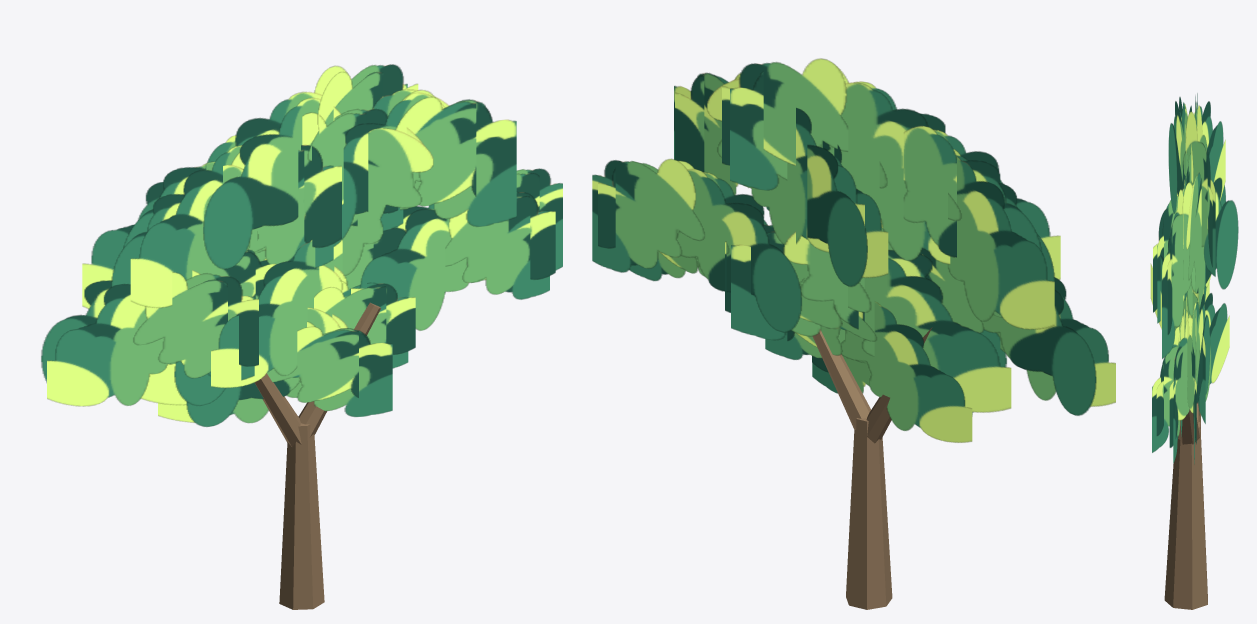
File: TREE_NATIVE_ROUNDED_001_LOD_GAMEPLAY.glb
3 views of the same model, side by side, from view 1: azimuth 30°, elevation 25°; view 2: azimuth 150°, elevation 25°; view 3: azimuth 270°, elevation 25° (orthographic). The views are drawn at different scales.
Visible parts, largest first — view 1: GG_TREE_NATIVE_ROUNDED_001_MID_02_01, GG_TREE_NATIVE_ROUNDED_001_MID_00_01, GG_TREE_NATIVE_ROUNDED_001_MID_05_02, GG_TREE_NATIVE_ROUNDED_001_MID_01_02, GG_TREE_NATIVE_ROUNDED_001_MID_04_01, GG_TREE_NATIVE_ROUNDED_001_BRANCH_00, GG_TREE_NATIVE_ROUNDED_001_MID_00_00, GG_TREE_NATIVE_ROUNDED_001_MID_04_00, GG_TREE_NATIVE_ROUNDED_001_MID_03_01, GG_TREE_NATIVE_ROUNDED_001_MID_03_00, GG_TREE_NATIVE_ROUNDED_001_REAR_03_01, GG_TREE_NATIVE_ROUNDED_001_MID_06_00 (+26 smaller); view 2: GG_TREE_NATIVE_ROUNDED_001_REAR_01_00, GG_TREE_NATIVE_ROUNDED_001_REAR_05_00, GG_TREE_NATIVE_ROUNDED_001_REAR_04_02, GG_TREE_NATIVE_ROUNDED_001_REAR_06_01, GG_TREE_NATIVE_ROUNDED_001_REAR_02_01, GG_TREE_NATIVE_ROUNDED_001_REAR_04_01, GG_TREE_NATIVE_ROUNDED_001_REAR_02_02, GG_TREE_NATIVE_ROUNDED_001_REAR_01_02, GG_TREE_NATIVE_ROUNDED_001_BRANCH_00, GG_TREE_NATIVE_ROUNDED_001_REAR_00_01, GG_TREE_NATIVE_ROUNDED_001_REAR_03_00, GG_TREE_NATIVE_ROUNDED_001_REAR_03_02 (+18 smaller); view 3: GG_TREE_NATIVE_ROUNDED_001_BRANCH_00, GG_TREE_NATIVE_ROUNDED_001_REAR_03_01, GG_TREE_NATIVE_ROUNDED_001_REAR_03_00, GG_TREE_NATIVE_ROUNDED_001_MID_02_02, GG_TREE_NATIVE_ROUNDED_001_REAR_03_02, GG_TREE_NATIVE_ROUNDED_001_REAR_04_00, GG_TREE_NATIVE_ROUNDED_001_REAR_06_01, GG_TREE_NATIVE_ROUNDED_001_MID_02_01, GG_TREE_NATIVE_ROUNDED_001_REAR_01_00, GG_TREE_NATIVE_ROUNDED_001_REAR_04_01, GG_TREE_NATIVE_ROUNDED_001_REAR_06_00, GG_TREE_NATIVE_ROUNDED_001_REAR_00_00 (+12 smaller).
Boxes of the visible parts, x1,y1,x2,y2 form: GG_TREE_NATIVE_ROUNDED_001_MID_02_01: (203,98,340,269); GG_TREE_NATIVE_ROUNDED_001_MID_00_01: (47,270,200,406); GG_TREE_NATIVE_ROUNDED_001_MID_05_02: (211,240,333,387); GG_TREE_NATIVE_ROUNDED_001_MID_01_02: (130,145,242,307); GG_TREE_NATIVE_ROUNDED_001_MID_04_01: (351,209,469,330); GG_TREE_NATIVE_ROUNDED_001_BRANCH_00: (279,423,324,609); GG_TREE_NATIVE_ROUNDED_001_MID_00_00: (133,272,254,380); GG_TREE_NATIVE_ROUNDED_001_MID_04_00: (445,196,549,299); GG_TREE_NATIVE_ROUNDED_001_MID_03_01: (395,97,491,206); GG_TREE_NATIVE_ROUNDED_001_MID_03_00: (263,128,433,275); GG_TREE_NATIVE_ROUNDED_001_REAR_03_01: (402,89,516,226); GG_TREE_NATIVE_ROUNDED_001_MID_06_00: (267,326,370,402); GG_TREE_NATIVE_ROUNDED_001_REAR_01_00: (948,155,1054,329); GG_TREE_NATIVE_ROUNDED_001_REAR_05_00: (835,258,1011,412); GG_TREE_NATIVE_ROUNDED_001_REAR_04_02: (592,158,704,272); GG_TREE_NATIVE_ROUNDED_001_REAR_06_01: (841,301,972,442); GG_TREE_NATIVE_ROUNDED_001_REAR_02_01: (827,82,950,264); GG_TREE_NATIVE_ROUNDED_001_REAR_04_01: (676,169,801,332); GG_TREE_NATIVE_ROUNDED_001_REAR_02_02: (722,58,848,165); GG_TREE_NATIVE_ROUNDED_001_REAR_01_02: (903,126,1041,257); GG_TREE_NATIVE_ROUNDED_001_BRANCH_00: (846,418,892,609); GG_TREE_NATIVE_ROUNDED_001_REAR_00_01: (981,290,1096,415); GG_TREE_NATIVE_ROUNDED_001_REAR_03_00: (807,145,867,286); GG_TREE_NATIVE_ROUNDED_001_REAR_03_02: (707,79,864,252); GG_TREE_NATIVE_ROUNDED_001_BRANCH_00: (1164,422,1207,609); GG_TREE_NATIVE_ROUNDED_001_REAR_03_01: (1162,182,1192,358); GG_TREE_NATIVE_ROUNDED_001_REAR_03_00: (1189,177,1238,293); GG_TREE_NATIVE_ROUNDED_001_MID_02_02: (1182,111,1215,276); GG_TREE_NATIVE_ROUNDED_001_REAR_03_02: (1186,172,1211,307); GG_TREE_NATIVE_ROUNDED_001_REAR_04_00: (1169,316,1199,447); GG_TREE_NATIVE_ROUNDED_001_REAR_06_01: (1204,293,1229,401); GG_TREE_NATIVE_ROUNDED_001_MID_02_01: (1168,101,1193,213); GG_TREE_NATIVE_ROUNDED_001_REAR_01_00: (1194,101,1225,200); GG_TREE_NATIVE_ROUNDED_001_REAR_04_01: (1191,294,1209,403); GG_TREE_NATIVE_ROUNDED_001_REAR_06_00: (1152,345,1177,452); GG_TREE_NATIVE_ROUNDED_001_REAR_00_00: (1153,196,1178,312).
Size of the model in its own units: 7.83 by 7.77 by 1.22.
2 materials, 1 textured.
